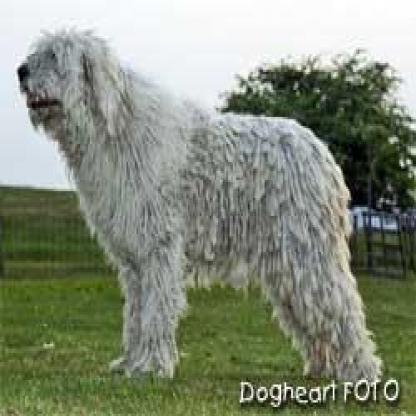komondor: (12, 20, 384, 392)
